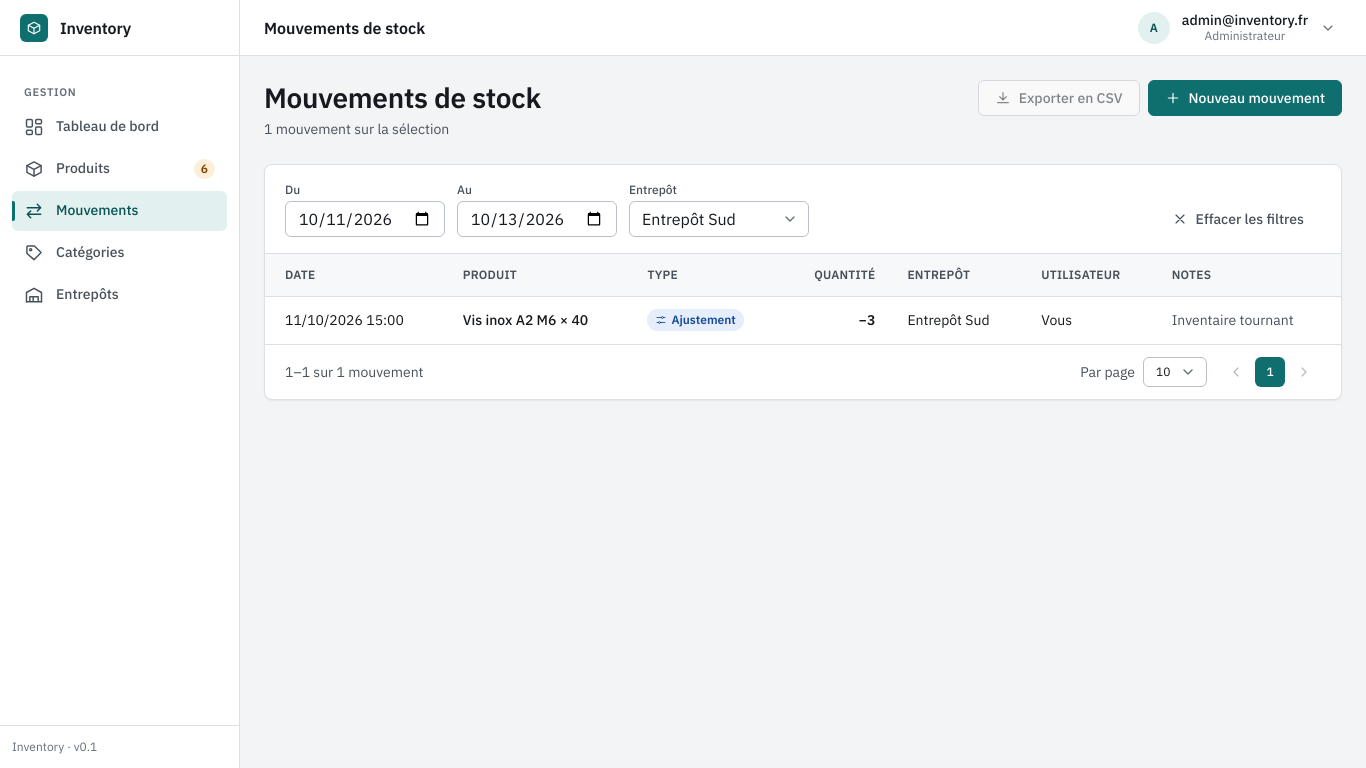
it: MovementsPage › clears every filter but keeps the page size
Expected: the heading "Mouvements de stock" is shown, [264,80,541,115]
Expected: the text "1 mouvement sur la sélection" is shown, [264,120,449,138]
Click the button "Effacer les filtres" at point(1238, 219), box [1155,201,1321,237]
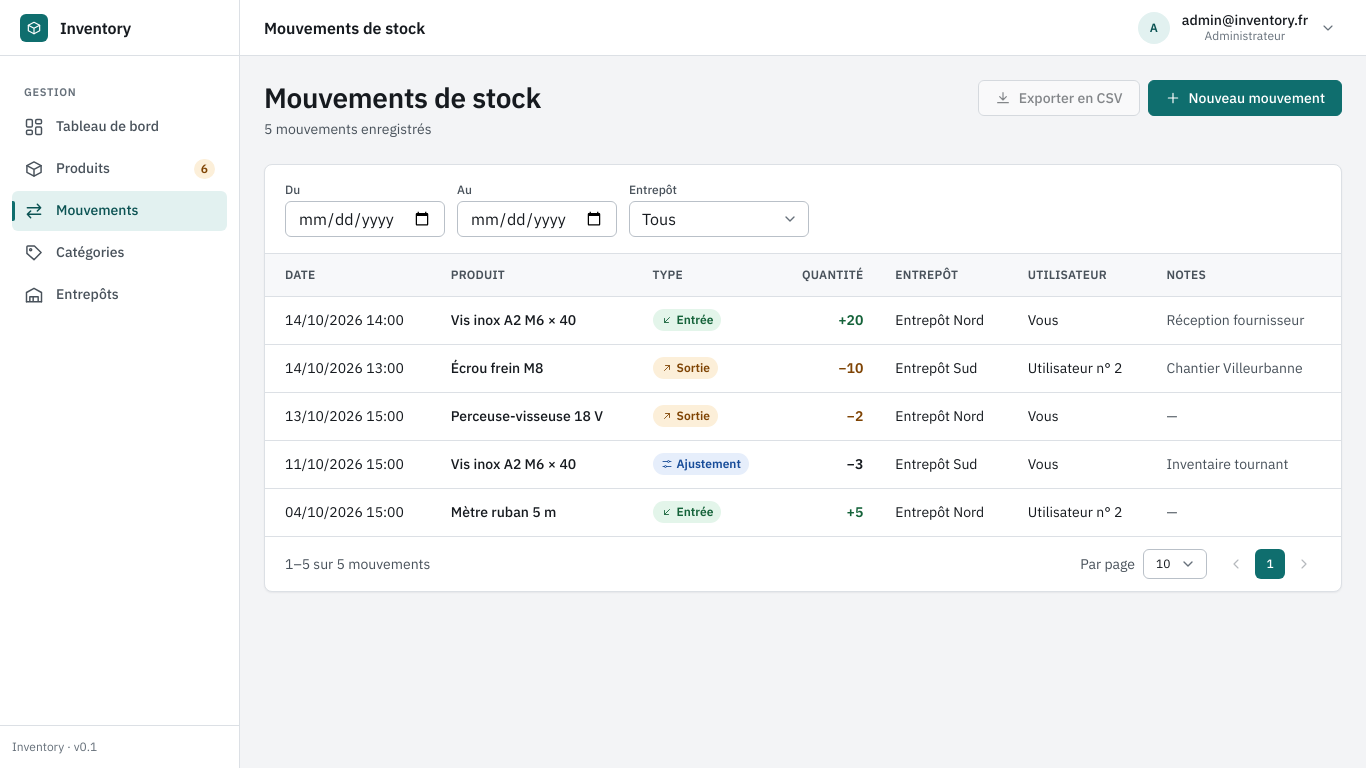
Result: the text "5 mouvements enregistrés" is shown at [264,120,432,138]
Result: the date field labelled "Du" is empty at [285,201,445,237]
Result: the date field labelled "Au" is empty at [457,201,617,237]
